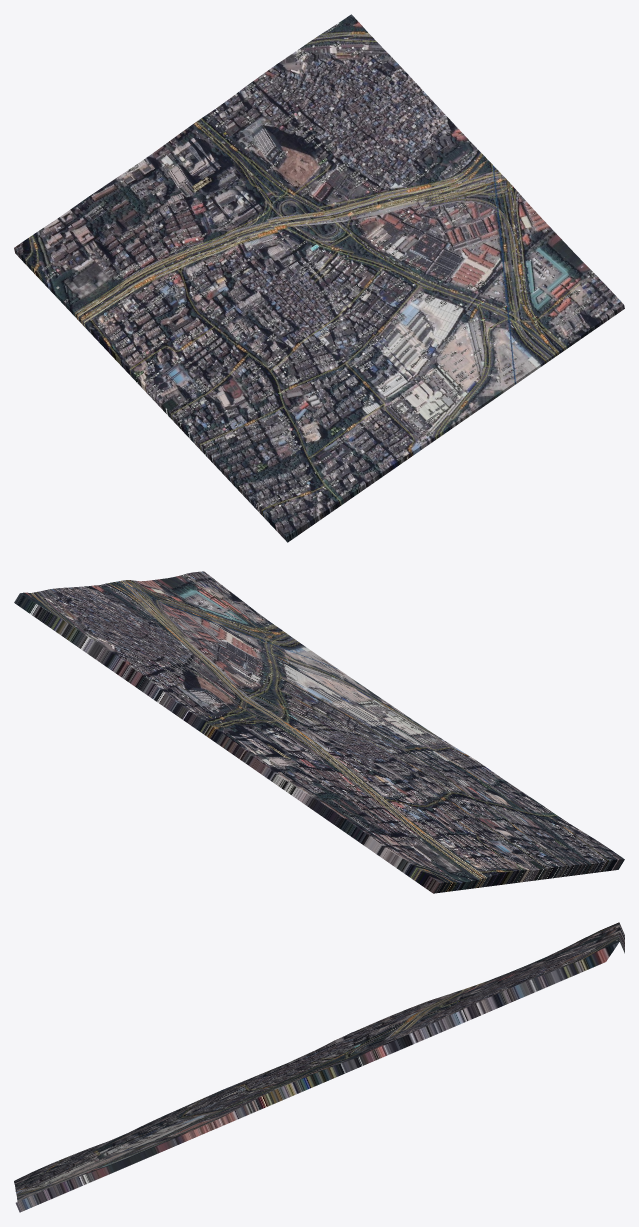
3 views of the same model, one above another, from view 1: azimuth 30°, elevation 25°; view 2: azimuth 150°, elevation 25°; view 3: azimuth 270°, elevation 25° (orthographic). The views are drawn at different scales.
Visible parts, largest first — view 1: 1_1_5; view 2: 1_1_5; view 3: 1_1_5.
Part boxes in pixels (x1,y1,x2,y2): 1_1_5: (14, 14, 624, 542); 1_1_5: (14, 571, 624, 893); 1_1_5: (14, 922, 624, 1212).
Bounding box in the file's own units: 1232 × 905 × 1129.
Materials: 1 (1 with a texture image).
